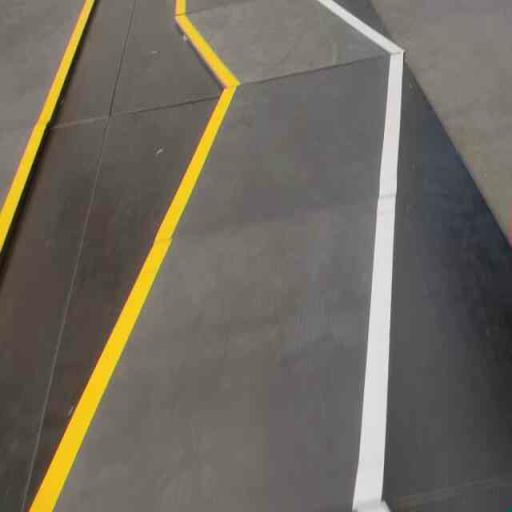crossright: (25, 196, 402, 511)
